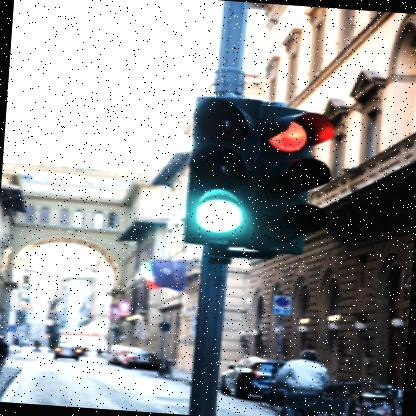trafficlight: (256, 100, 341, 260), (186, 92, 266, 246)
